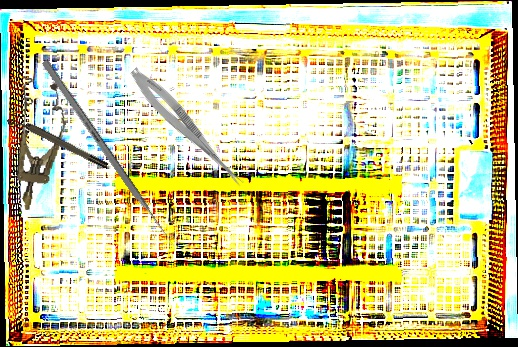Fixation Ring: (5, 110, 110, 175)
Micro Scissor: (124, 63, 252, 191)
Pusher: (40, 59, 178, 249)
Speculum: (1, 75, 73, 215)
